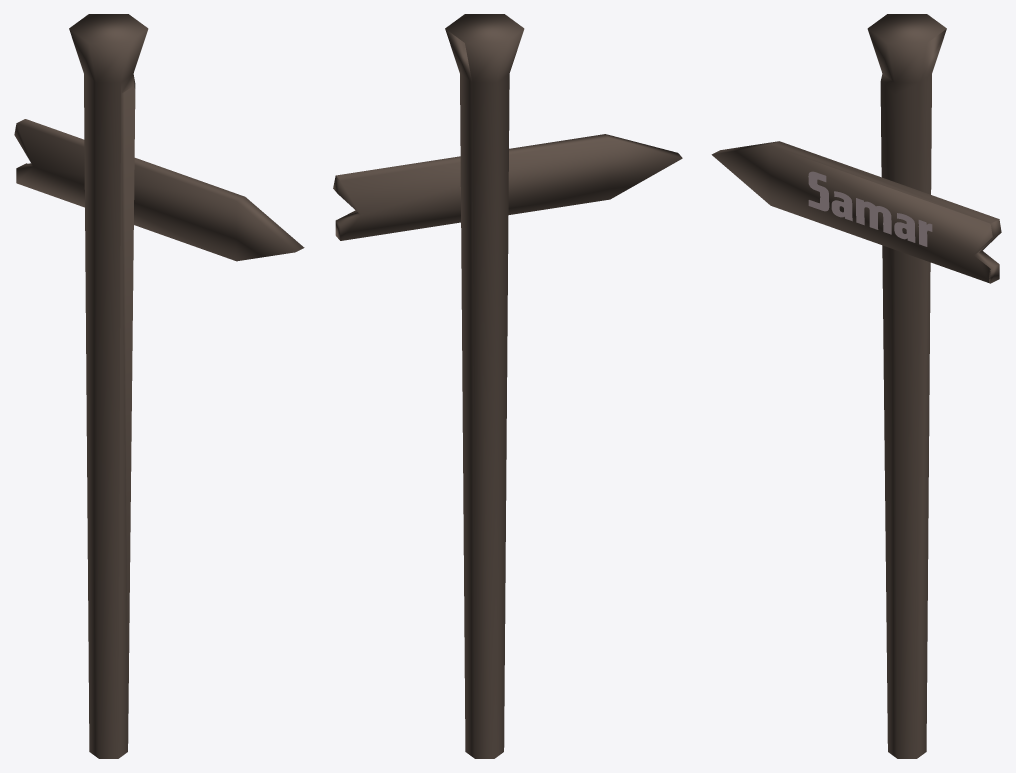
File: samar-sign.glb
3 views of the same model, side by side, from view 1: azimuth 90°, elevation 25°; view 2: azimuth 150°, elevation 25°; view 3: azimuth 270°, elevation 25° (orthographic).
Size of the model in its own units: 0.7593 by 2.46 by 0.8934.
